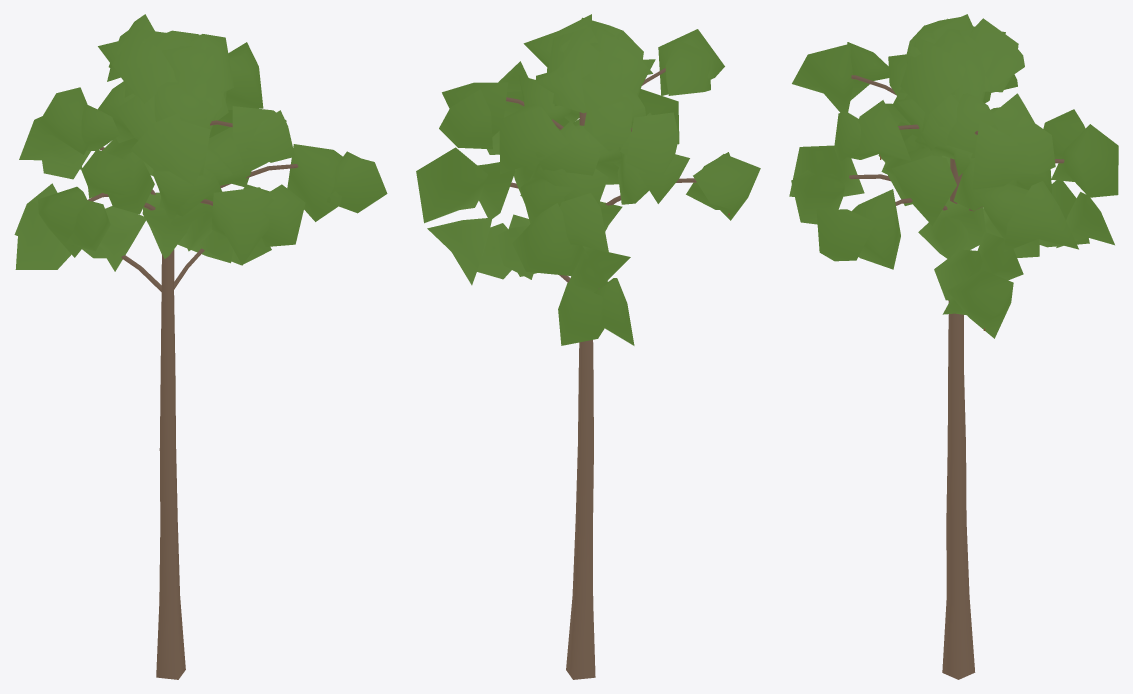
The model's file is Blender_LoblollyPine_1_Far.glb.
The picture shows the model from 3 angles, left to right: view 1: azimuth 30°, elevation 25°; view 2: azimuth 150°, elevation 25°; view 3: azimuth 270°, elevation 25°; orthographic projection.
Visible parts, largest first — view 1: Blender_LoblollyPine_1_Far; view 2: Blender_LoblollyPine_1_Far; view 3: Blender_LoblollyPine_1_Far.
Boxes of the visible parts, x1,y1,x2,y2 form: Blender_LoblollyPine_1_Far: [14, 14, 387, 679]; Blender_LoblollyPine_1_Far: [416, 14, 760, 679]; Blender_LoblollyPine_1_Far: [789, 14, 1118, 679].
Size of the model in its own units: 13.52 by 27.96 by 12.87.
